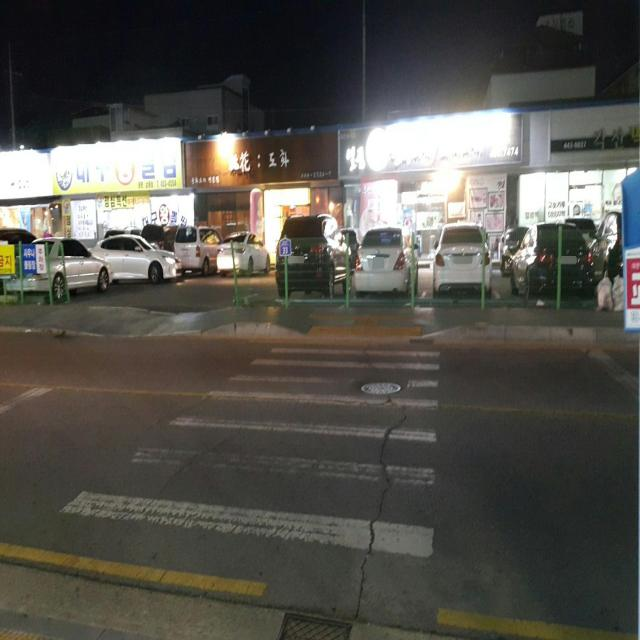횡단보도: (56, 341, 443, 564)
